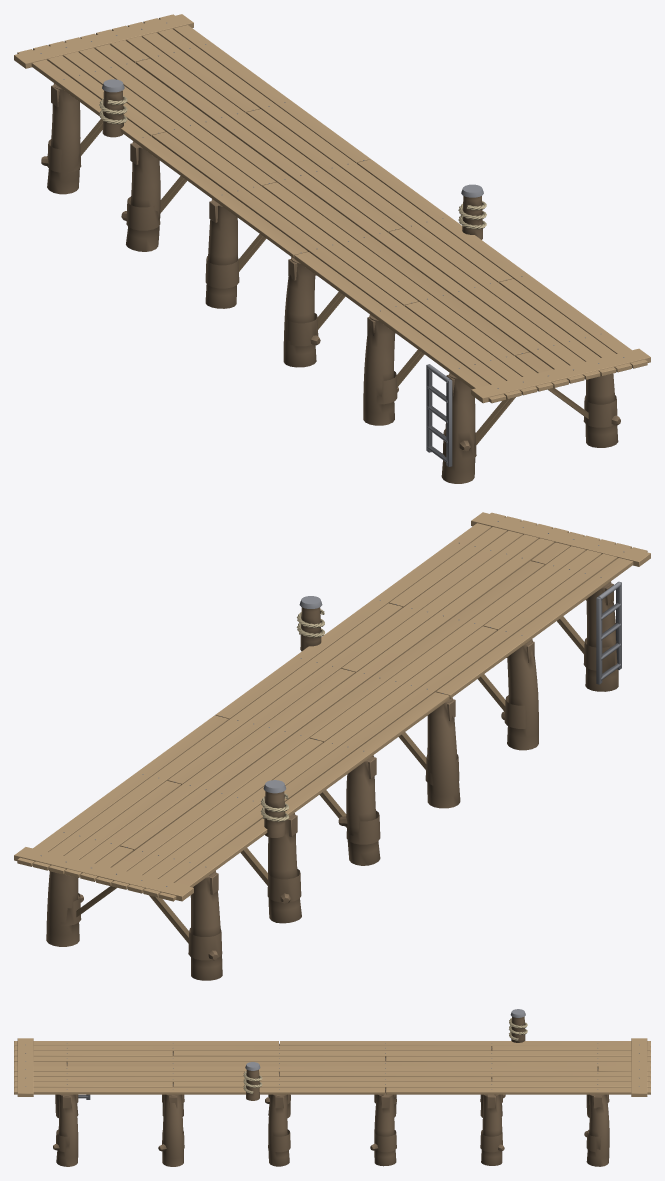
The model's file is berk_dock.glb.
The picture shows the model from 3 angles, top to bottom: view 1: azimuth 30°, elevation 25°; view 2: azimuth 150°, elevation 25°; view 3: azimuth 270°, elevation 25°; orthographic projection. The views are drawn at different scales.
Visible parts, largest first — view 1: berk_dock; view 2: berk_dock; view 3: berk_dock.
Part boxes in pixels (x1,y1,x2,y2): berk_dock: [14, 14, 650, 483]; berk_dock: [14, 512, 650, 980]; berk_dock: [14, 1009, 650, 1166].
Size of the model in its own units: 2.72 by 2.09 by 12.
